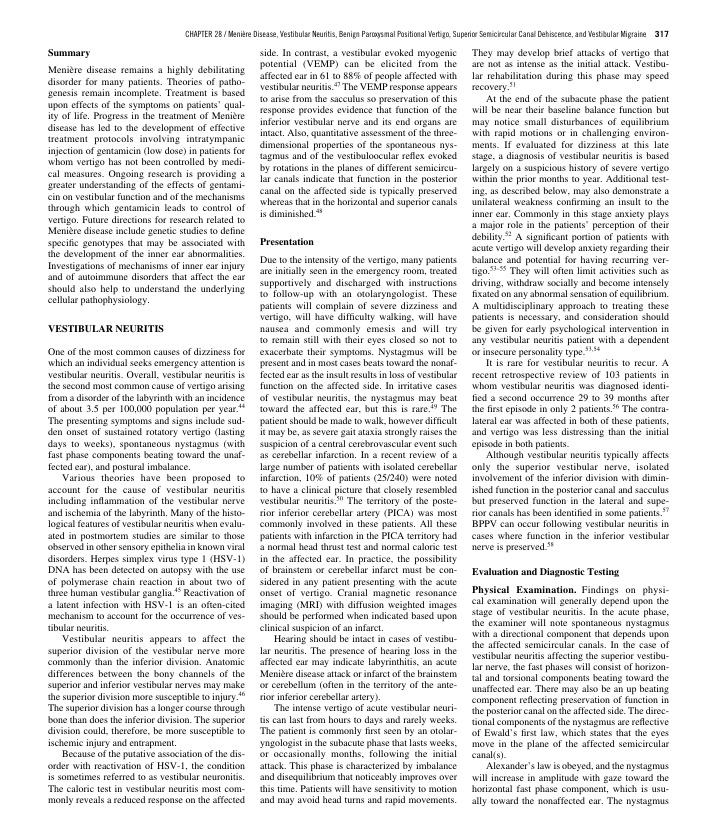header: (184, 29, 647, 39)
section-heading: (47, 323, 165, 334)
sub-section-heading: (471, 567, 620, 578), (471, 585, 577, 596), (47, 48, 91, 60), (259, 237, 315, 246)
text: (259, 254, 459, 805), (470, 48, 670, 554), (47, 345, 246, 808), (47, 66, 247, 307), (471, 585, 670, 808), (257, 47, 458, 219)
